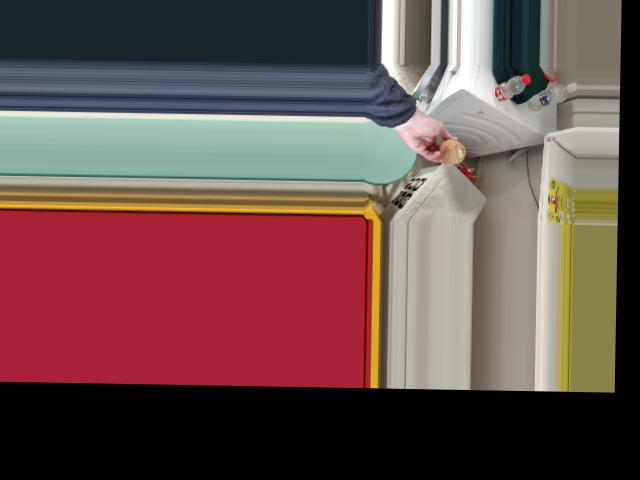sweet_potato: (436, 139, 464, 162)
